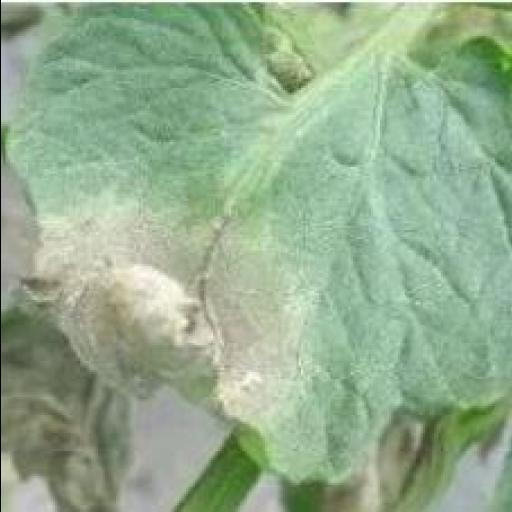Late Blight: (0, 6, 512, 486)
